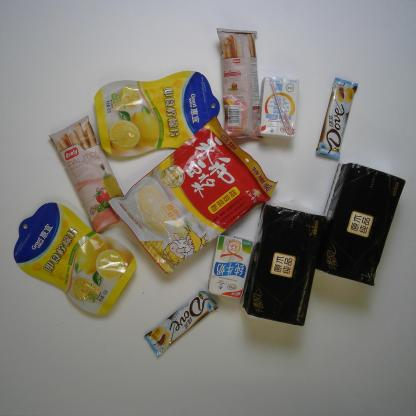Chocolate: (143, 288, 221, 358), (315, 76, 360, 160)
Dessert: (48, 116, 127, 235), (215, 25, 264, 143)
Dried Fruit: (12, 202, 139, 318), (93, 68, 223, 161)
Instant Drink: (106, 116, 280, 274)
Milk: (208, 234, 255, 301), (258, 76, 306, 138)
Tissue: (313, 160, 408, 288), (240, 200, 327, 328)
